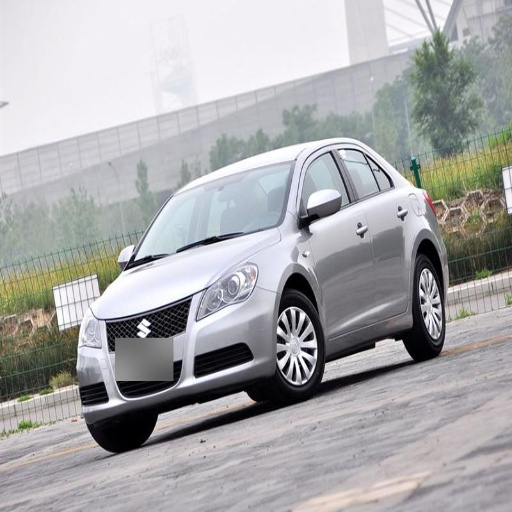front_bumper: (79, 288, 278, 413)
front_glass: (129, 163, 292, 268)
front_left_door: (298, 147, 377, 338)
